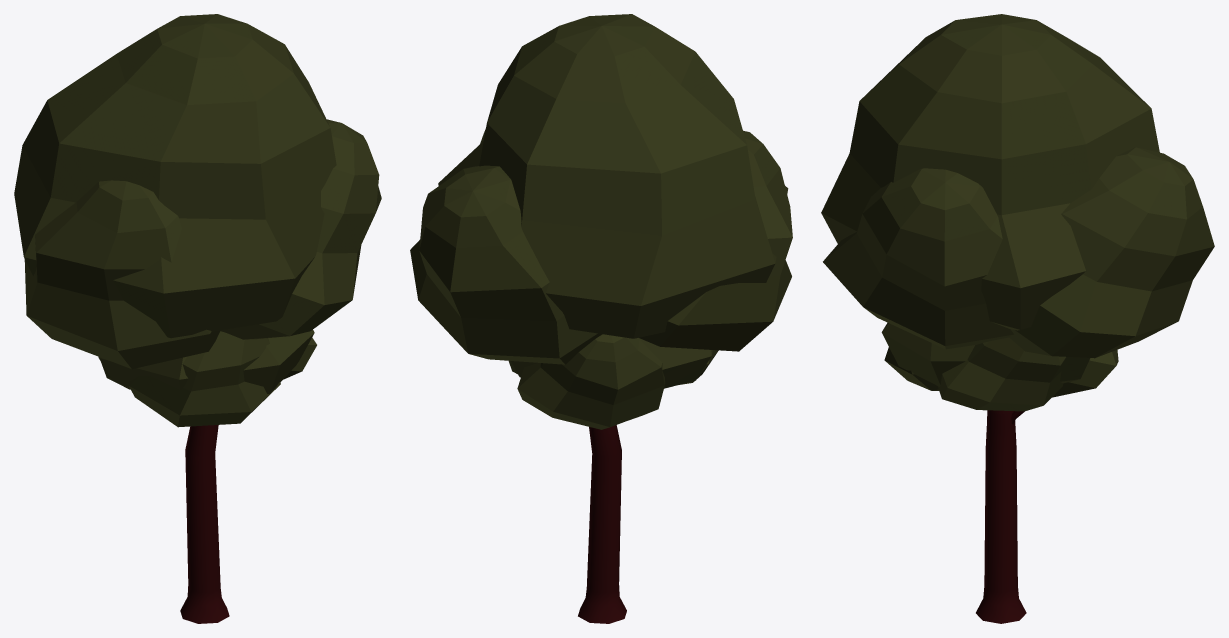
3 views of the same model, side by side, from view 1: azimuth 30°, elevation 25°; view 2: azimuth 150°, elevation 25°; view 3: azimuth 270°, elevation 25° (orthographic).
Visible parts, largest first — view 1: SM_BO_Tree_05_LOD0; view 2: SM_BO_Tree_05_LOD0; view 3: SM_BO_Tree_05_LOD0.
Boxes of the visible parts, x1,y1,x2,y2 form: SM_BO_Tree_05_LOD0: (14,14,381,623); SM_BO_Tree_05_LOD0: (410,14,792,623); SM_BO_Tree_05_LOD0: (821,14,1214,623).
Size of the model in its own units: 10.04 by 16.91 by 10.24.
